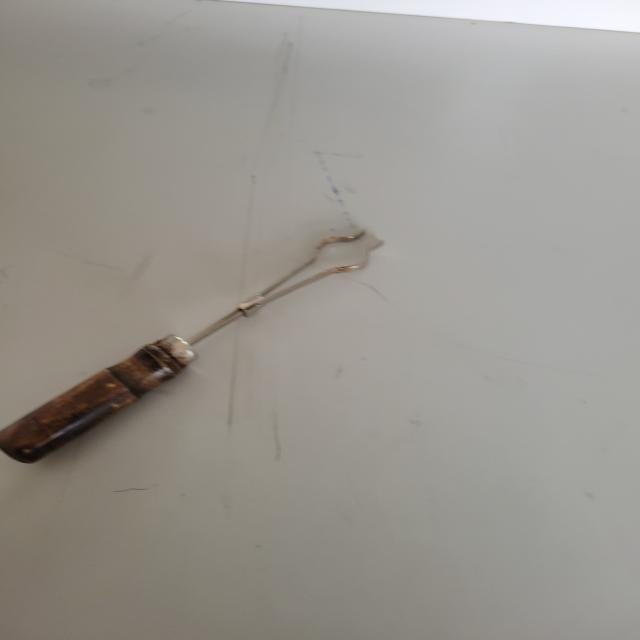TestTube_Holder: (0, 191, 421, 521)
